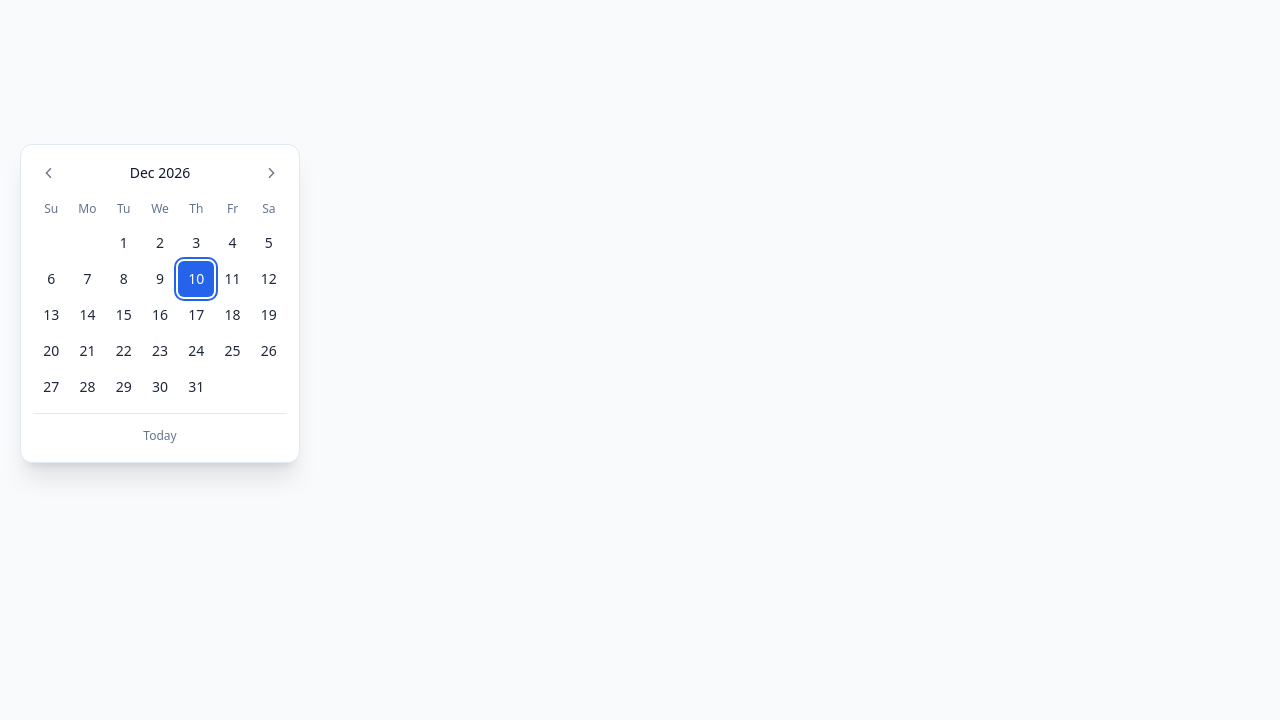
CalendarPopup › month navigation › wraps from December to January of next year
The width and height of the screenshot is (1280, 720).
Expected: the text "Dec 2026" is shown, [130,163,190,183]
Click the button named "Next month".
click(271, 173)  # box [255,157,287,189]
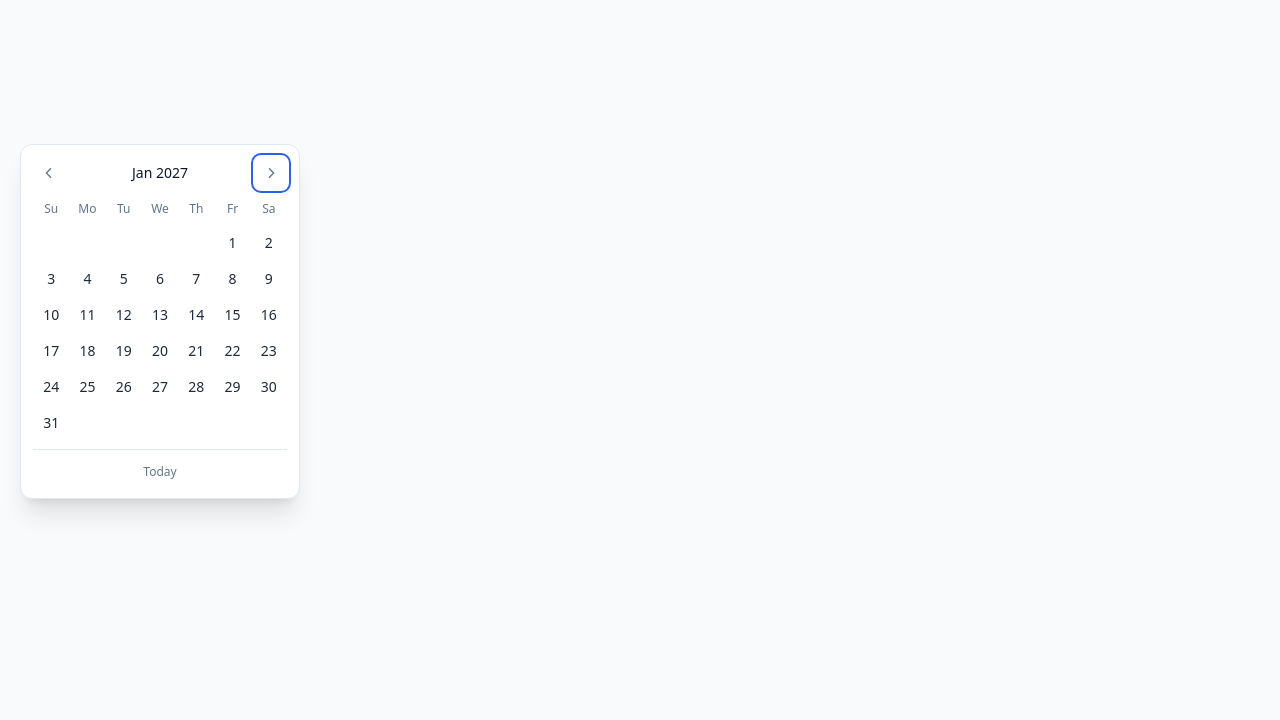
Expected: the text "Jan 2027" is shown, [132,163,188,183]
